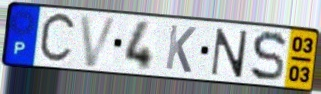4: (122, 18, 157, 73)
C: (36, 10, 79, 67)
K: (163, 23, 198, 75)
N: (208, 27, 250, 80)
S: (249, 29, 289, 84)
V: (78, 14, 121, 69)
